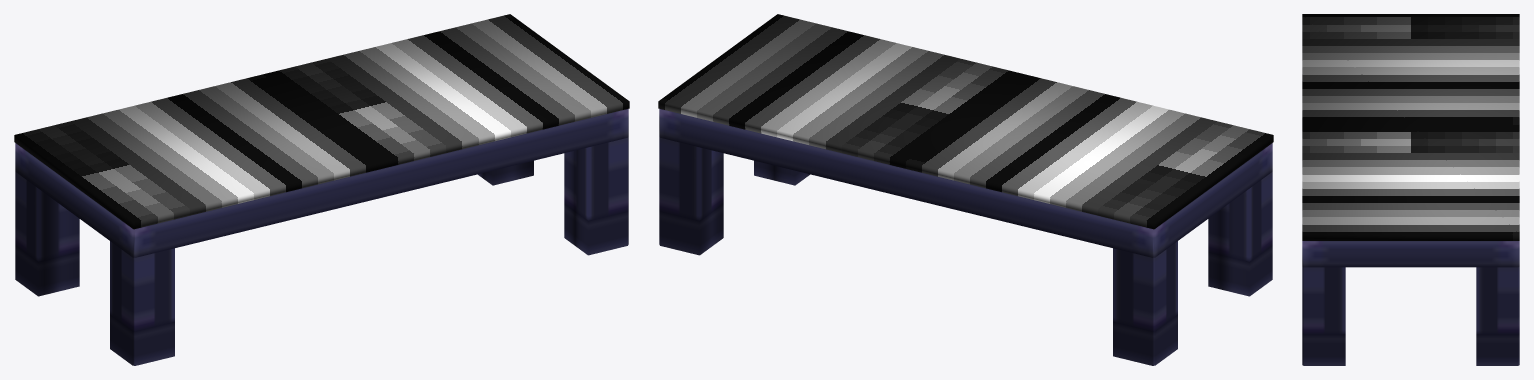
Rendered from rmk_mnc_tableM01.dae.
3 renders of one model, left to right at view 1: azimuth 30°, elevation 25°; view 2: azimuth 150°, elevation 25°; view 3: azimuth 270°, elevation 25°, orthographic. The views are drawn at different scales.
Parts seen in each view (by area): view 1: rmk_mnc_tableM01; view 2: rmk_mnc_tableM01; view 3: rmk_mnc_tableM01.
Part boxes in pixels (x1=…): rmk_mnc_tableM01: x1=14, y1=14, x2=629, y2=365; rmk_mnc_tableM01: x1=658, y1=14, x2=1273, y2=365; rmk_mnc_tableM01: x1=1302, y1=14, x2=1519, y2=365.
Bounding box in the file's own units: 57.6 × 16 × 24.
2 materials, 2 textured.
